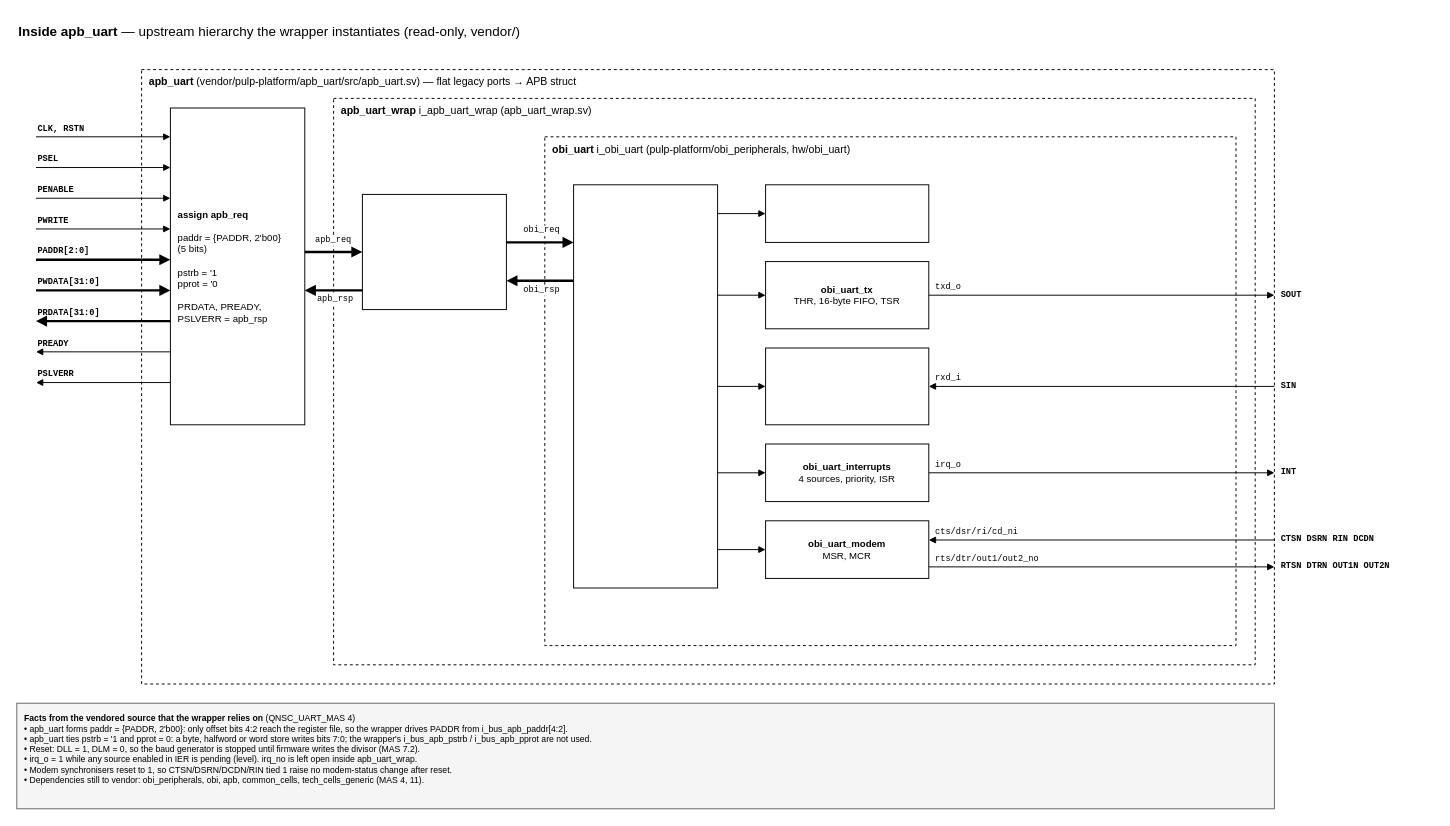
Some shapes in this 1450 by 826 pixel diagram are drawn without their labels. Each missing label, with the centre of its shape:
"apb_to_obi i_apb_to_obi pulp-platform/obi" goes at pixel 433 251.
"obi_uart_baudgen {DLM,DLL}, 16 ticks/bit" goes at pixel 847 213.
"obi_uart_register 16550 registers DLAB decode PSLVERR on unmapped access" goes at pixel 645 386.
"obi_uart_rx 2-FF sync, majority sampling, 16-byte FIFO, timeout" goes at pixel 847 386.
